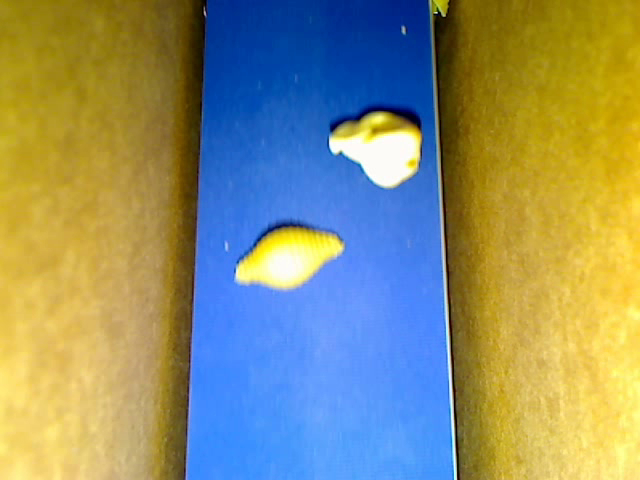shell: (235, 226, 345, 290)
tortellini: (327, 109, 424, 190)
